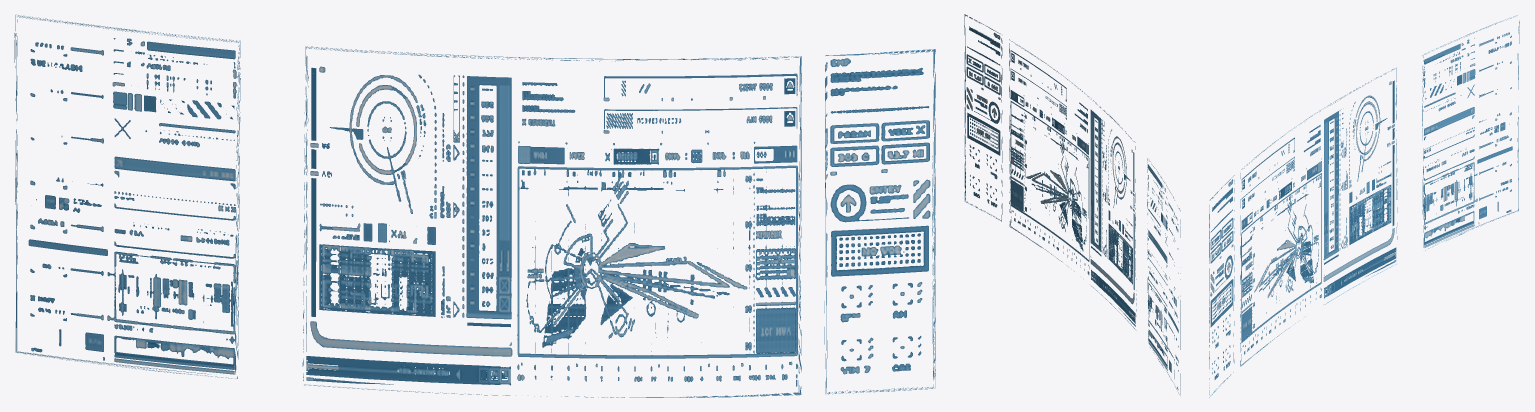
Rendered from Screen.fbx.
3 renders of one model, left to right at view 1: azimuth 30°, elevation 25°; view 2: azimuth 150°, elevation 25°; view 3: azimuth 270°, elevation 25°, orthographic. The views are drawn at different scales.
Visible parts, largest first — view 1: 全息投影002; view 2: 全息投影002; view 3: 全息投影002.
Part boxes in pixels (left/top/right/bottom): 全息投影002: left=14, top=14, right=935, bottom=397; 全息投影002: left=964, top=14, right=1180, bottom=395; 全息投影002: left=1209, top=15, right=1519, bottom=397.
Bounding box in the file's own units: 71.26 × 35.27 × 50.32.
